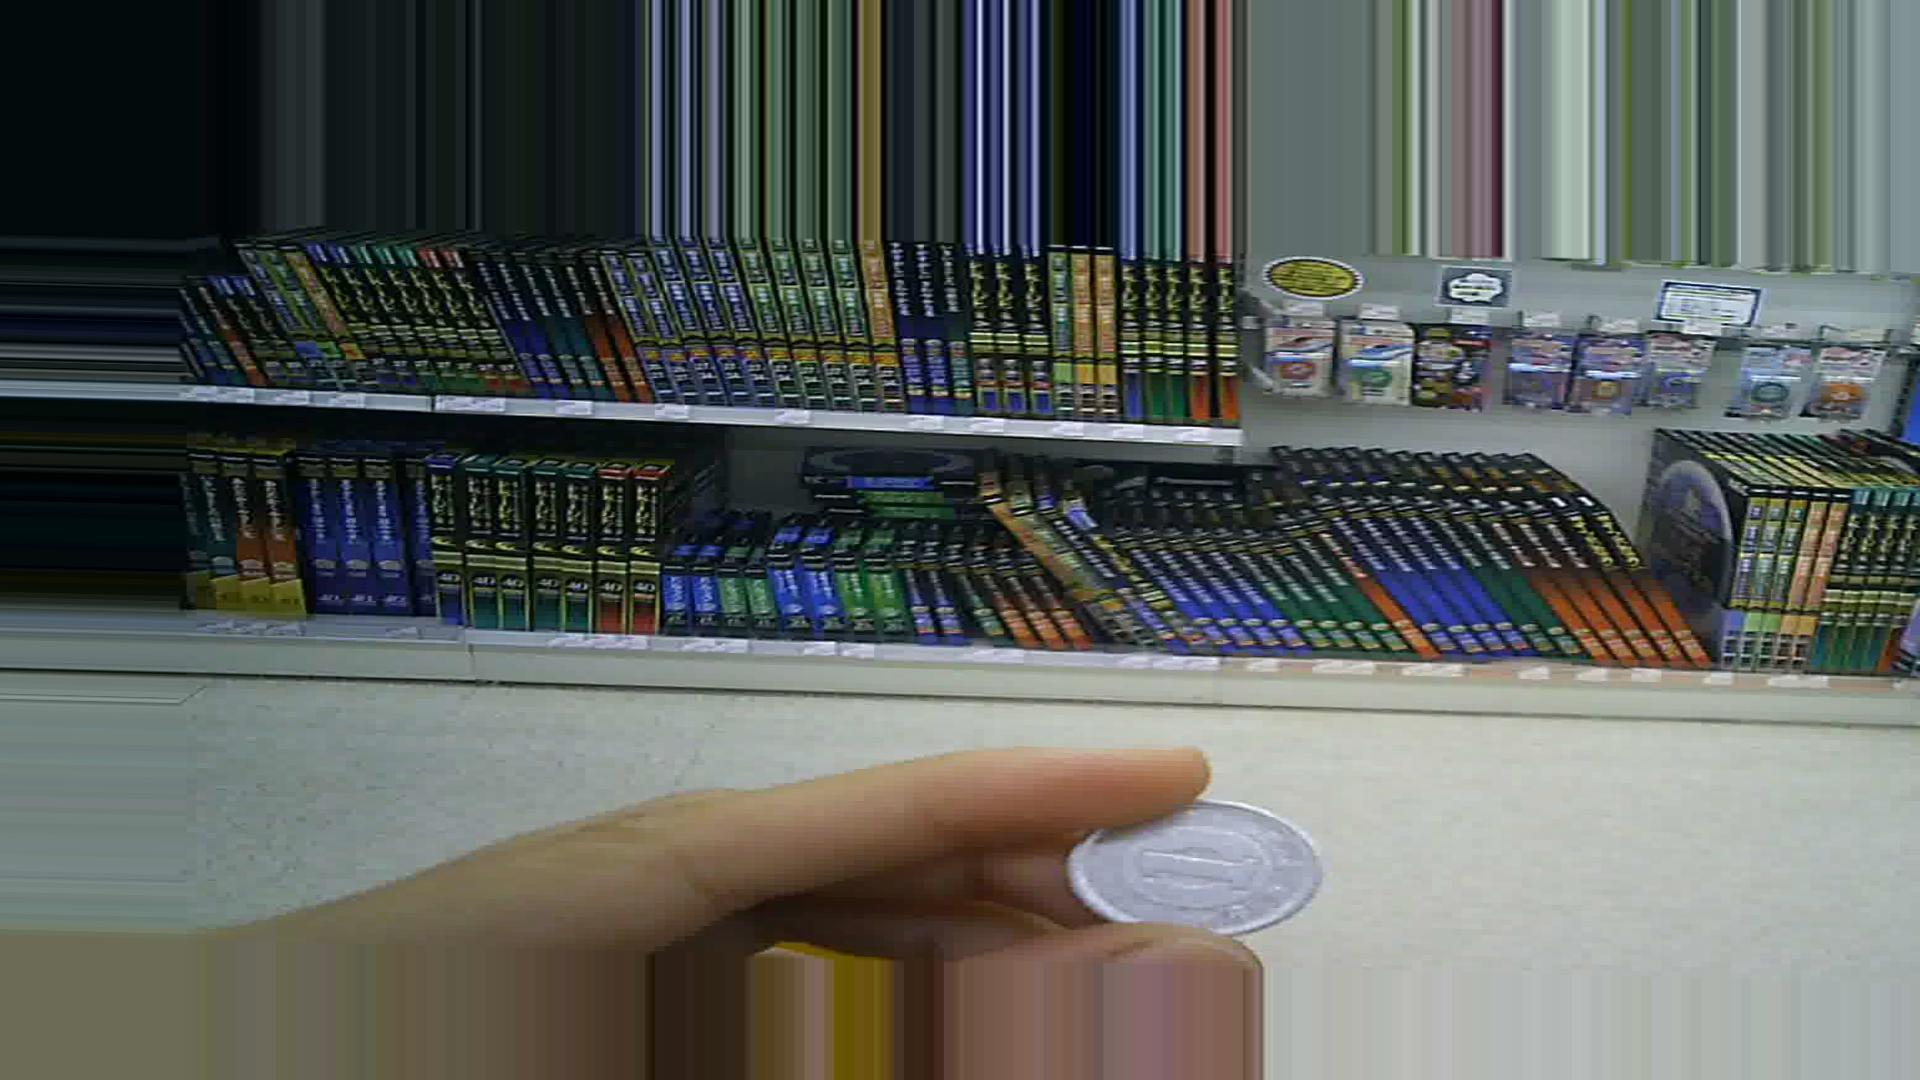1 Yen: (1072, 785, 1335, 943)
